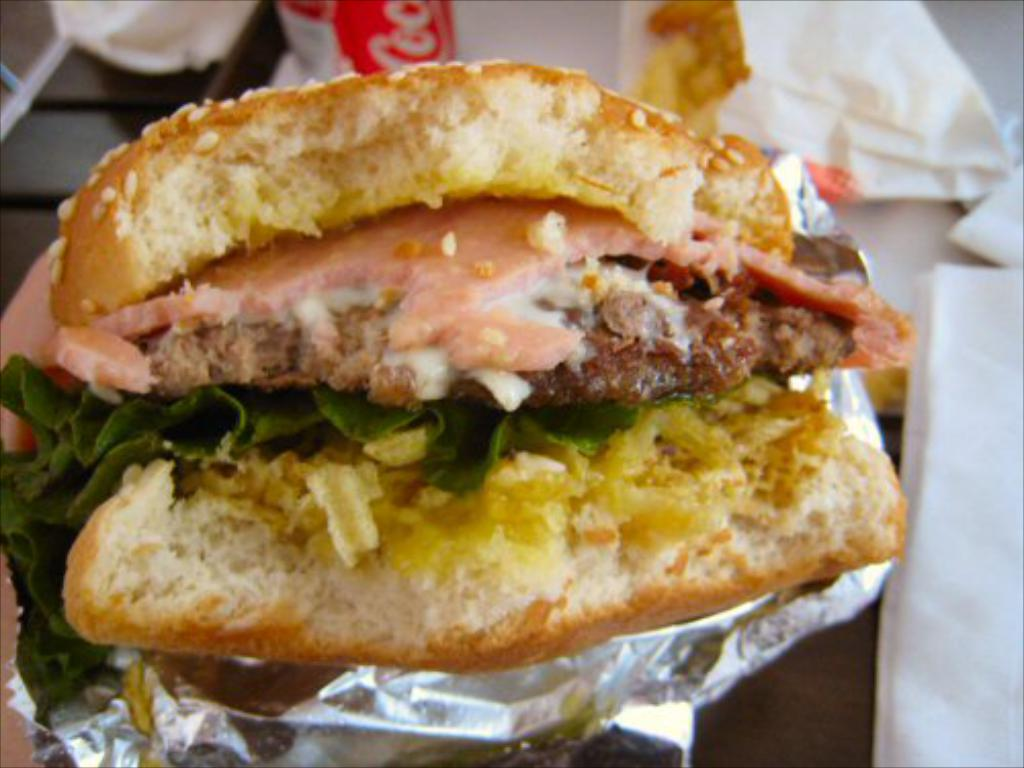Hamburger: (0, 61, 913, 727)
